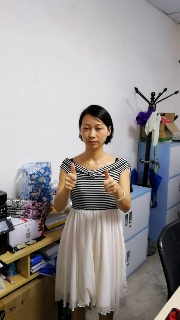hand: (64, 162, 77, 191), (103, 169, 117, 195)
